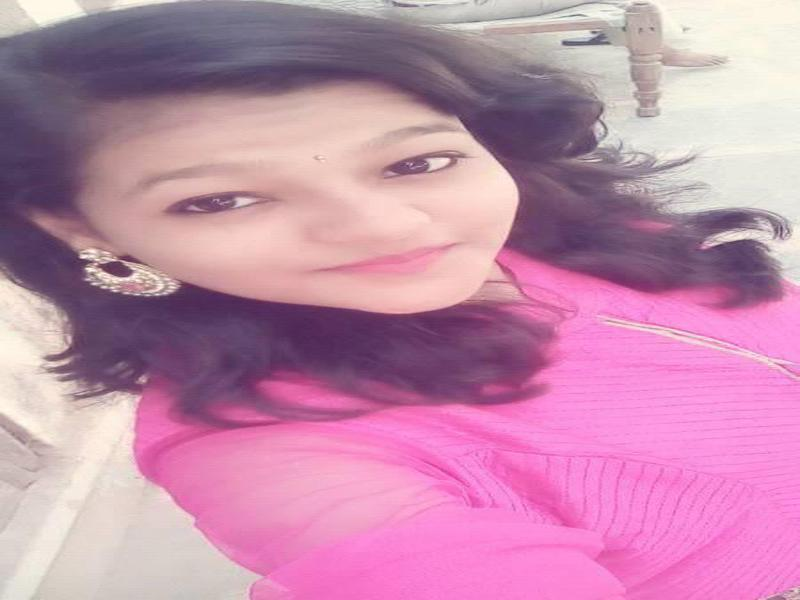without_mask: (78, 87, 531, 321)
